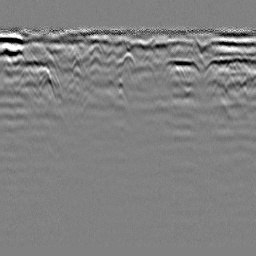cavity: (121, 49, 136, 67)
